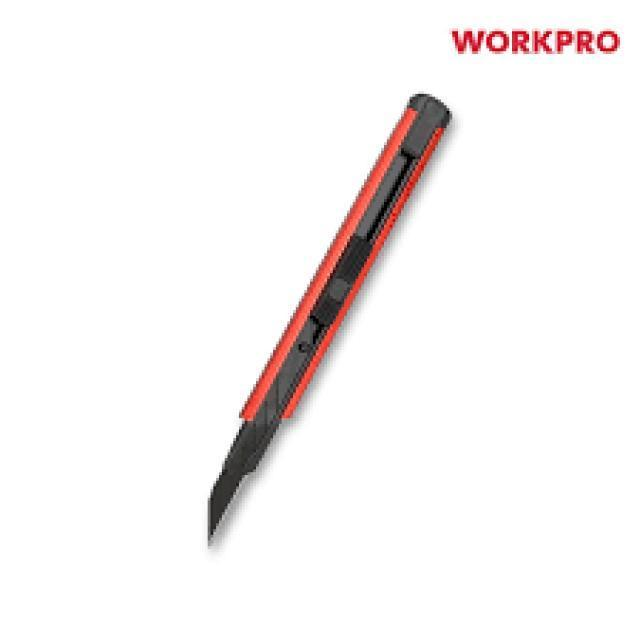cutter: (188, 83, 476, 558)
